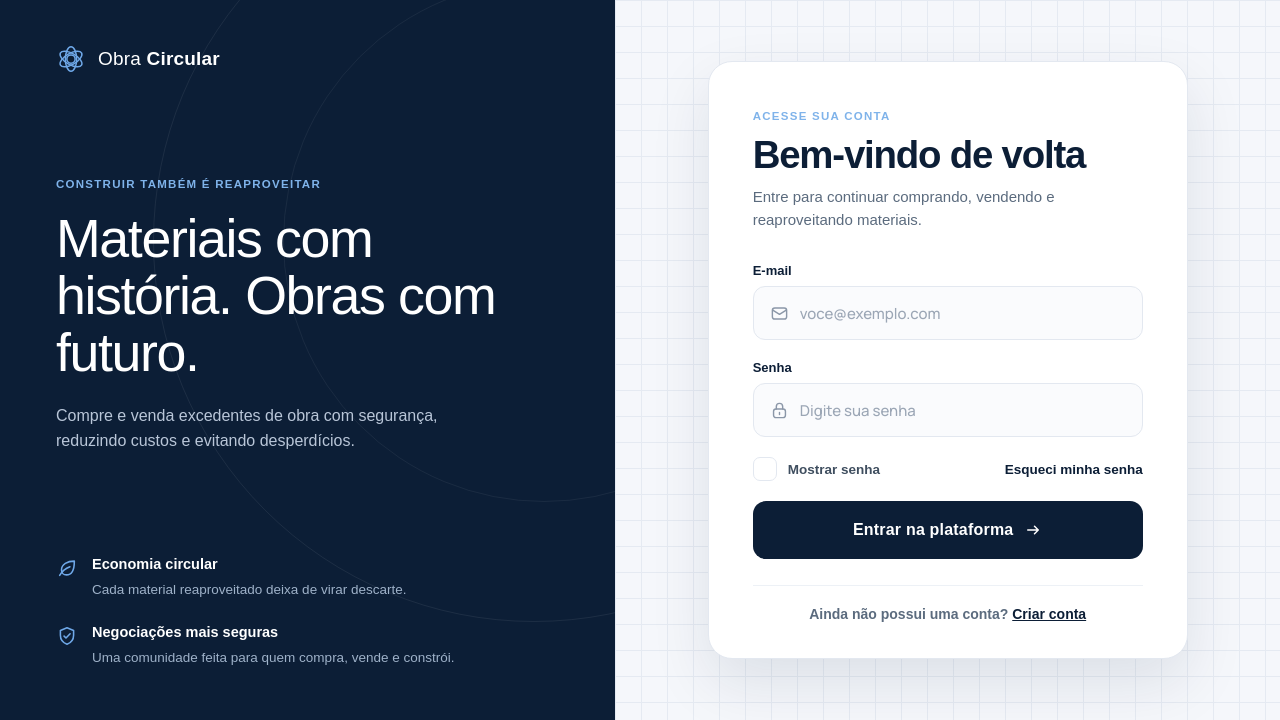
Test: redireciona para a home após o login e permite encerrar a sessão
In the field labelled "E-mail": (963, 314) [800, 288, 1126, 340], type "ana@example.com"
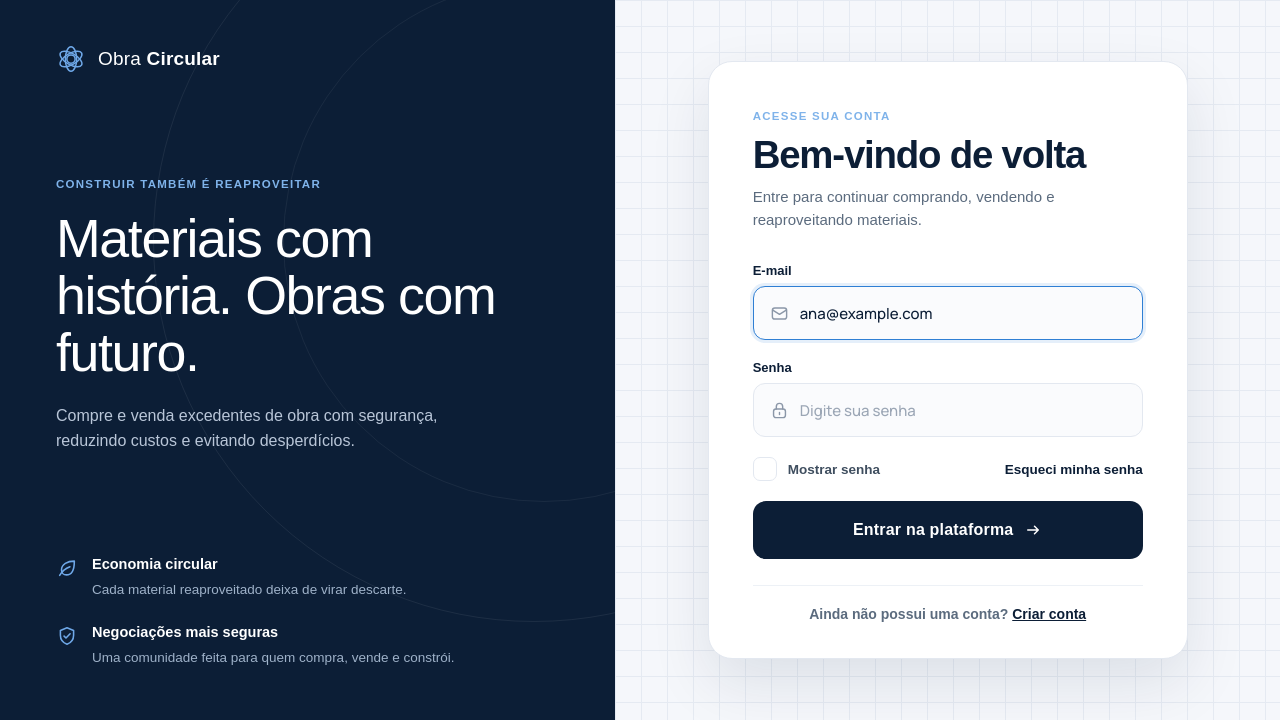
In the password field labelled "Senha": (963, 410) [800, 384, 1126, 436], type "senha-forte-123"
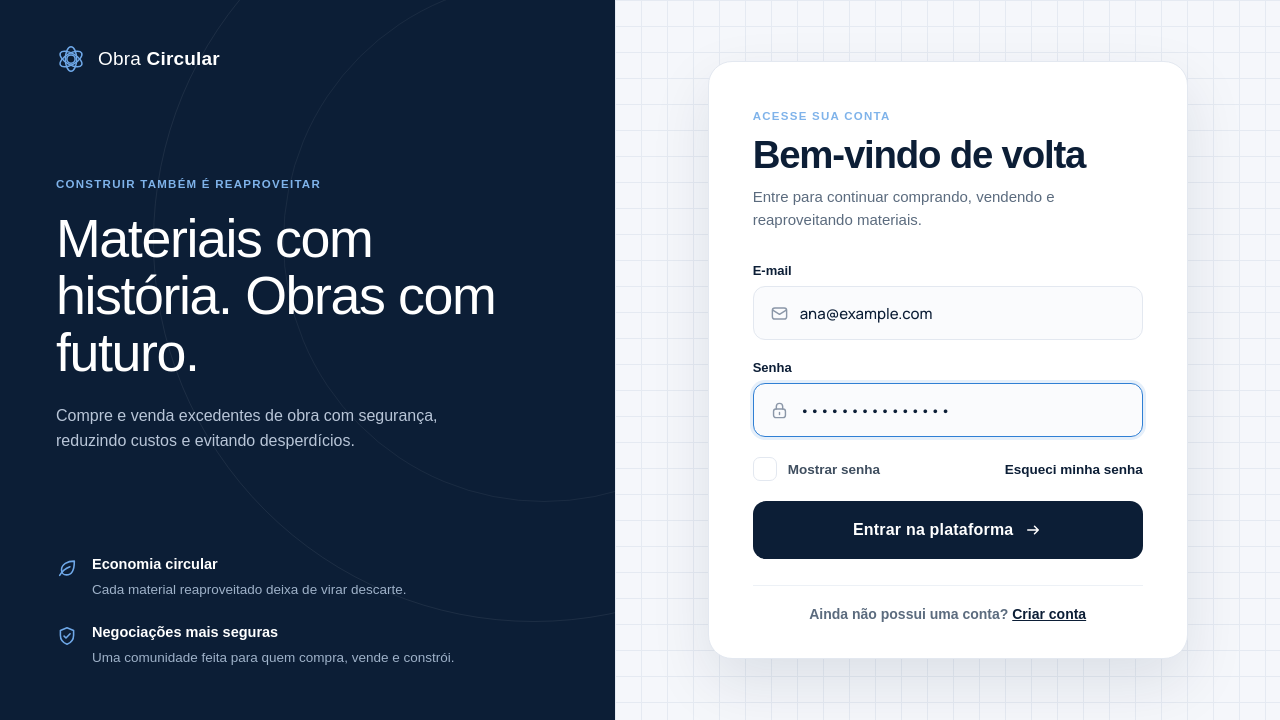
Click the button "Entrar na plataforma": (948, 530) [753, 502, 1143, 560]
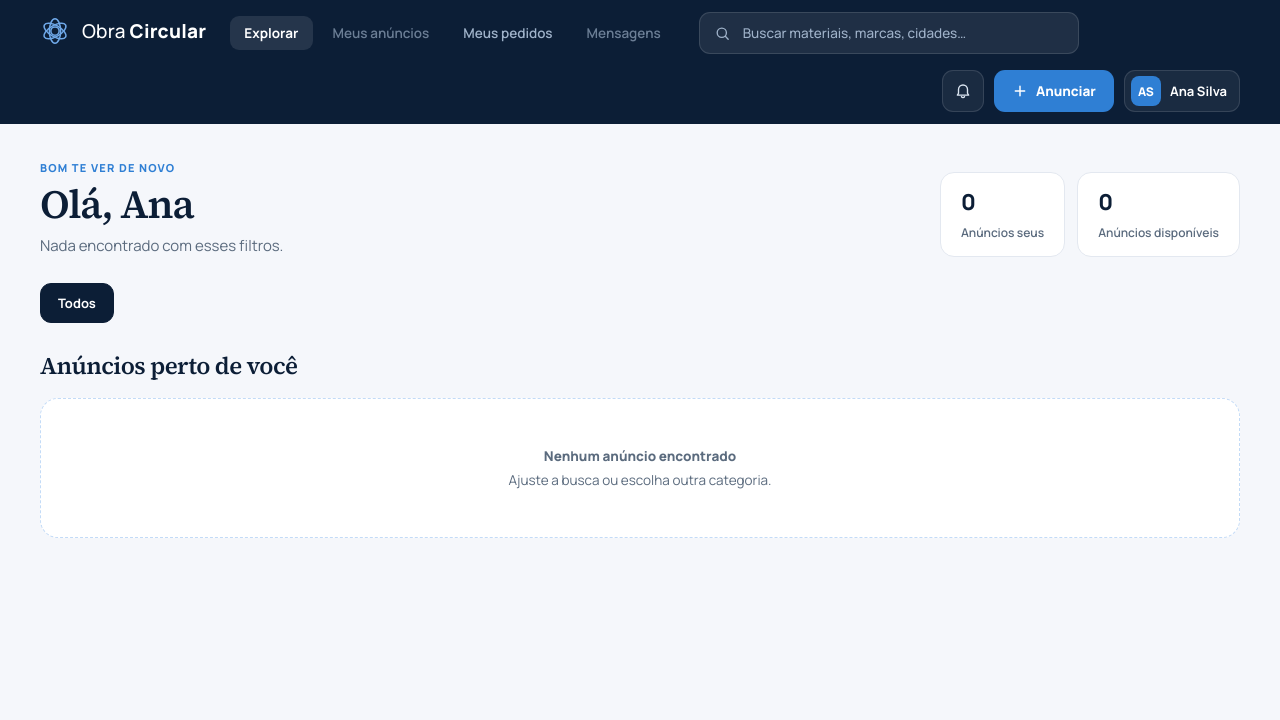
Result: the heading "Olá, Ana" is shown at [40, 177, 194, 231]
Click the link with aria-label "Ver meu perfil": (1182, 91) [1124, 70, 1240, 112]
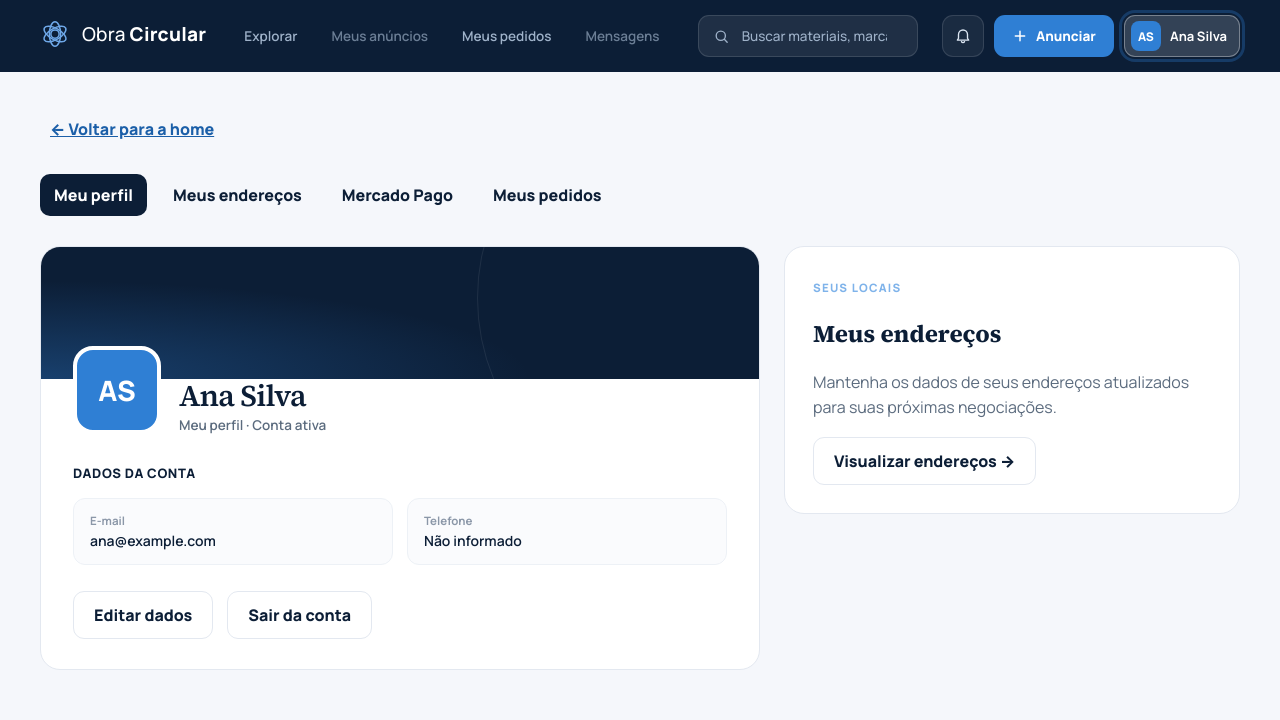
Click the button "Sair da conta": (300, 615) [227, 591, 372, 639]
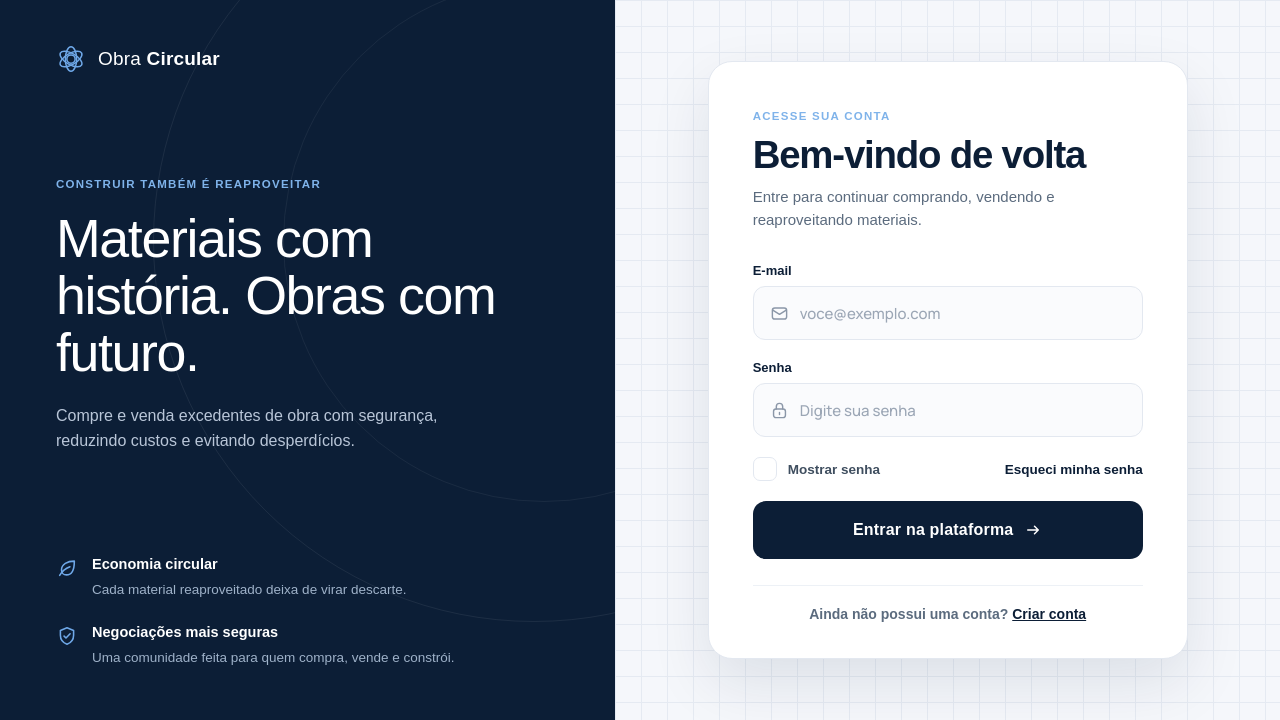
Result: the heading "Bem-vindo de volta" is shown at [753, 134, 1143, 175]
